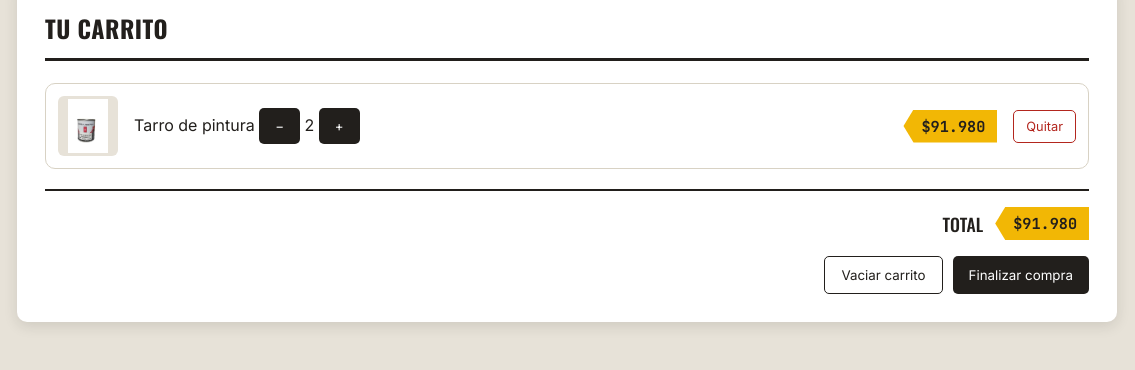
Scenario: Quitar elimina el producto y devuelve todo su stock
// interaccion del usuario
Click the button "Quitar" at {"x": 1045, "y": 126}, box x1=1013 y1=110 x2=1076 y2=142
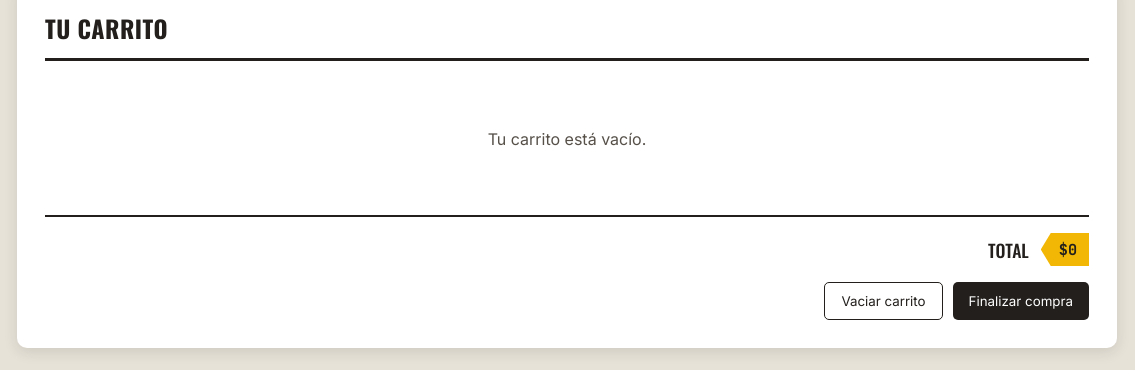
Now the text "Tu carrito está vacío." is shown, box x1=488 y1=129 x2=646 y2=149
